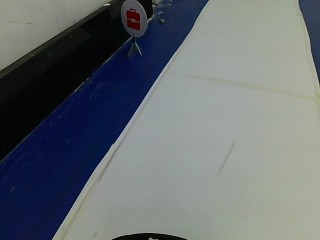company: (112, 0, 152, 38)
